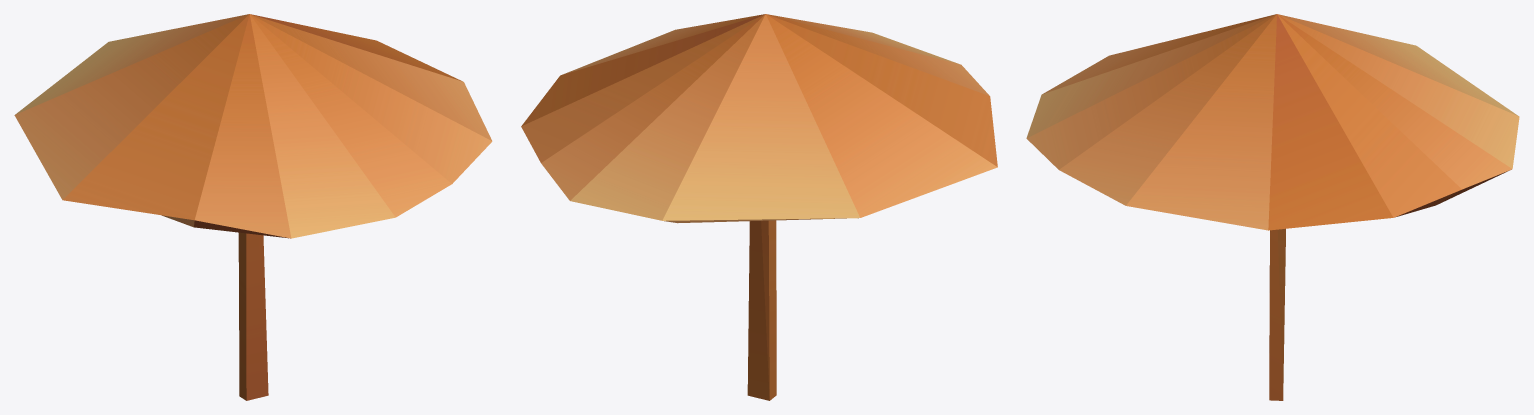
File: GL-Manmade-10-LOD3.fbx
3 views of the same model, side by side, from view 1: azimuth 30°, elevation 25°; view 2: azimuth 150°, elevation 25°; view 3: azimuth 270°, elevation 25° (orthographic).
Parts seen in each view (by area): view 1: GL_Manmade_10; view 2: GL_Manmade_10; view 3: GL_Manmade_10.
Part boxes in pixels (x1=…): GL_Manmade_10: x1=14, y1=14, x2=492, y2=400; GL_Manmade_10: x1=521, y1=14, x2=997, y2=400; GL_Manmade_10: x1=1026, y1=14, x2=1519, y2=400.
Size of the model in its own units: 1.34 by 1.17 by 1.38.
